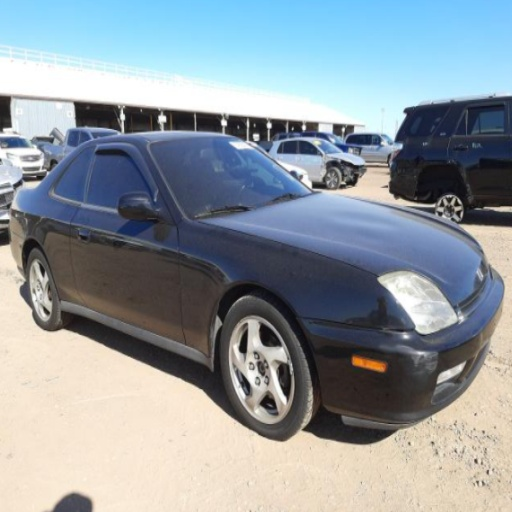scratch: (409, 349, 442, 387)
